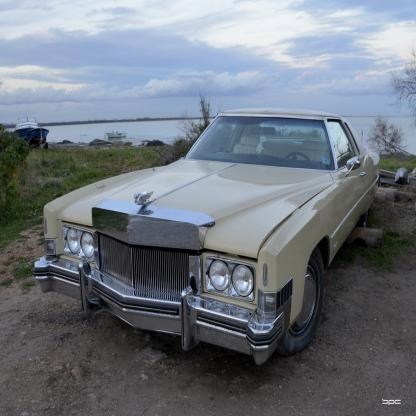Car: (34, 109, 382, 365)
